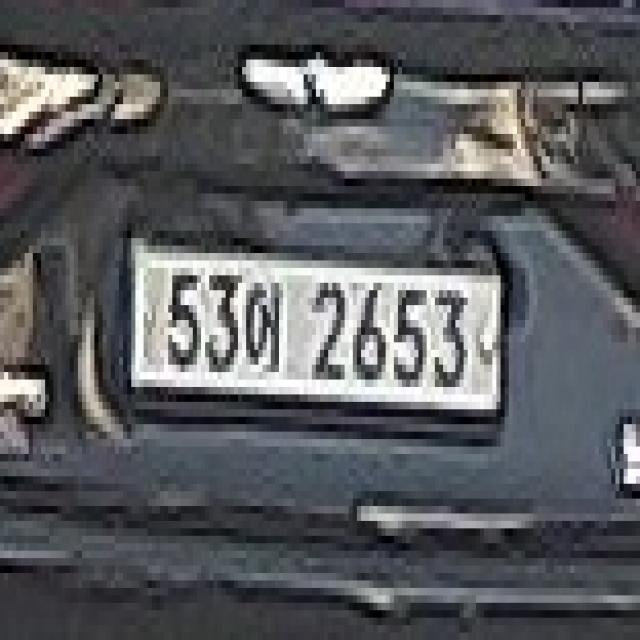2: (307, 260, 348, 387)
3: (197, 253, 242, 372), (435, 275, 472, 402)
5: (164, 253, 201, 380), (394, 275, 427, 387)
6: (348, 275, 386, 387)
heo: (242, 268, 291, 372)
license_plate: (115, 223, 513, 447)
